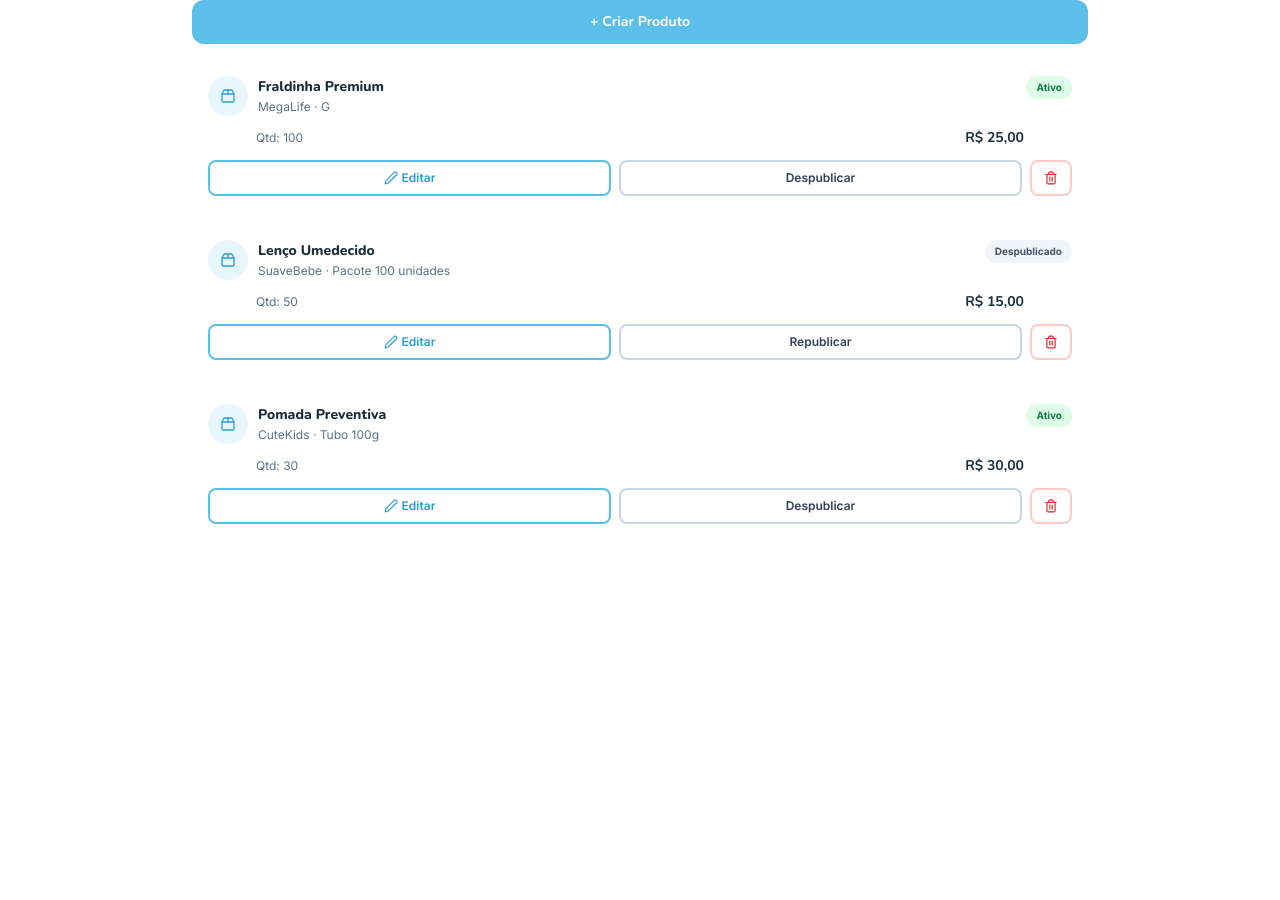
Scenario: CatalogoTab (fornecedor) › should reject form submission with empty required fields
Note: Clicar em "Criar Produto"
Click the button "+ Criar Produto" at [640, 22], box 192,0 -> 1088,44
(page scrolled)
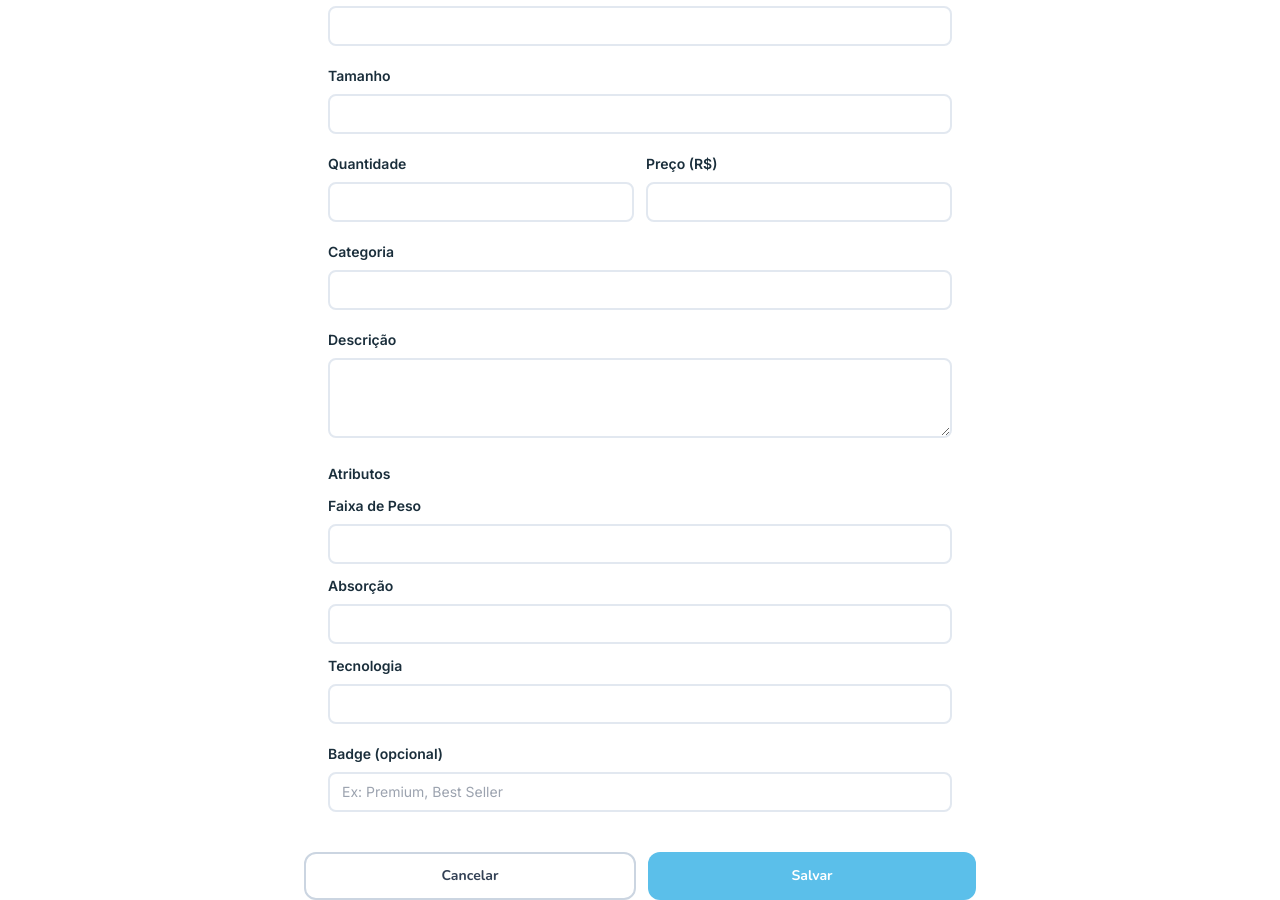
Note: Tentar submeter sem preencher nada
Click the button "Salvar" at [812, 876], box 648,852 -> 976,899
(page scrolled)
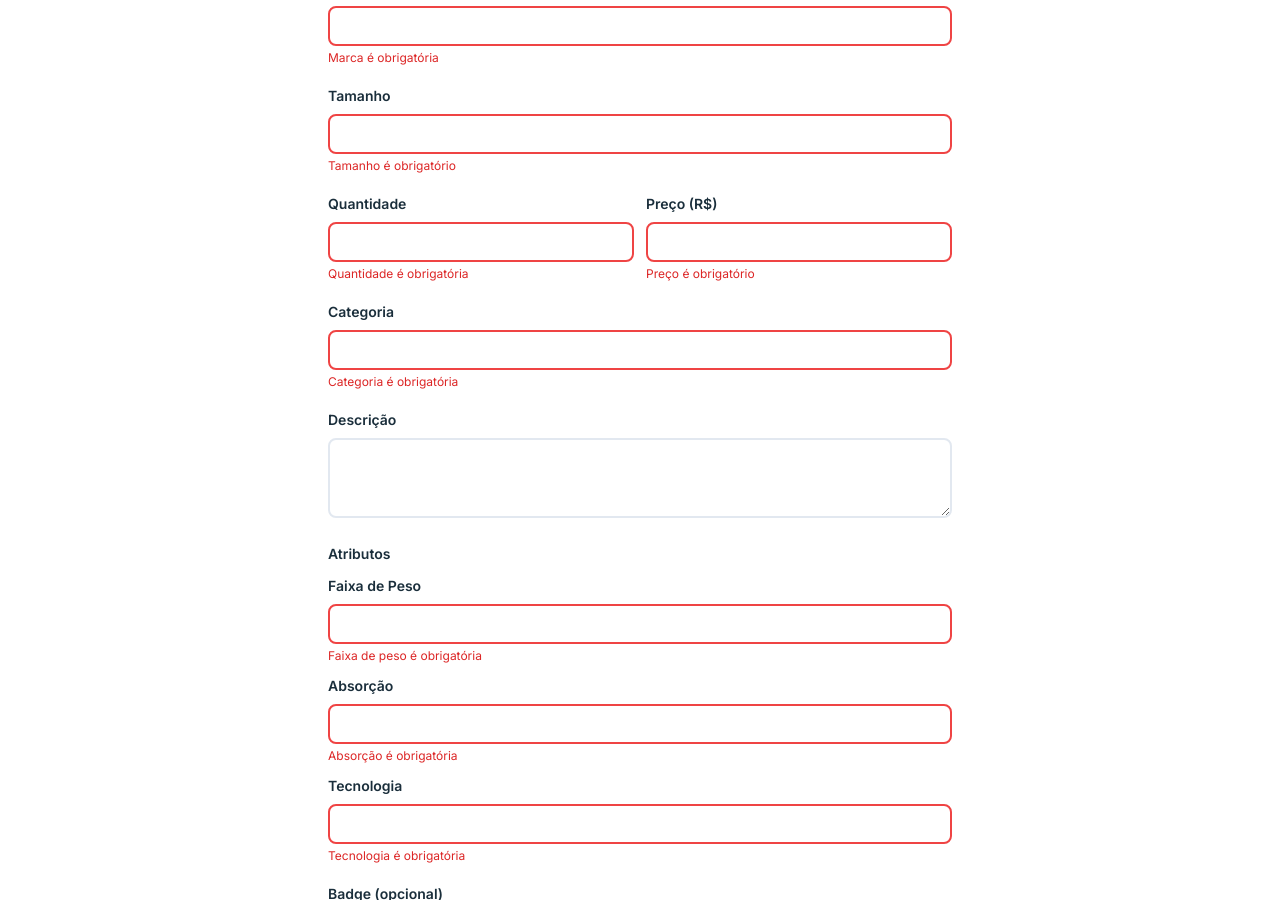
Expected: the text "Marca é obrigatória" is shown, 328,50 -> 439,65
Expected: the text "Tamanho é obrigatório" is shown, 328,158 -> 456,173
